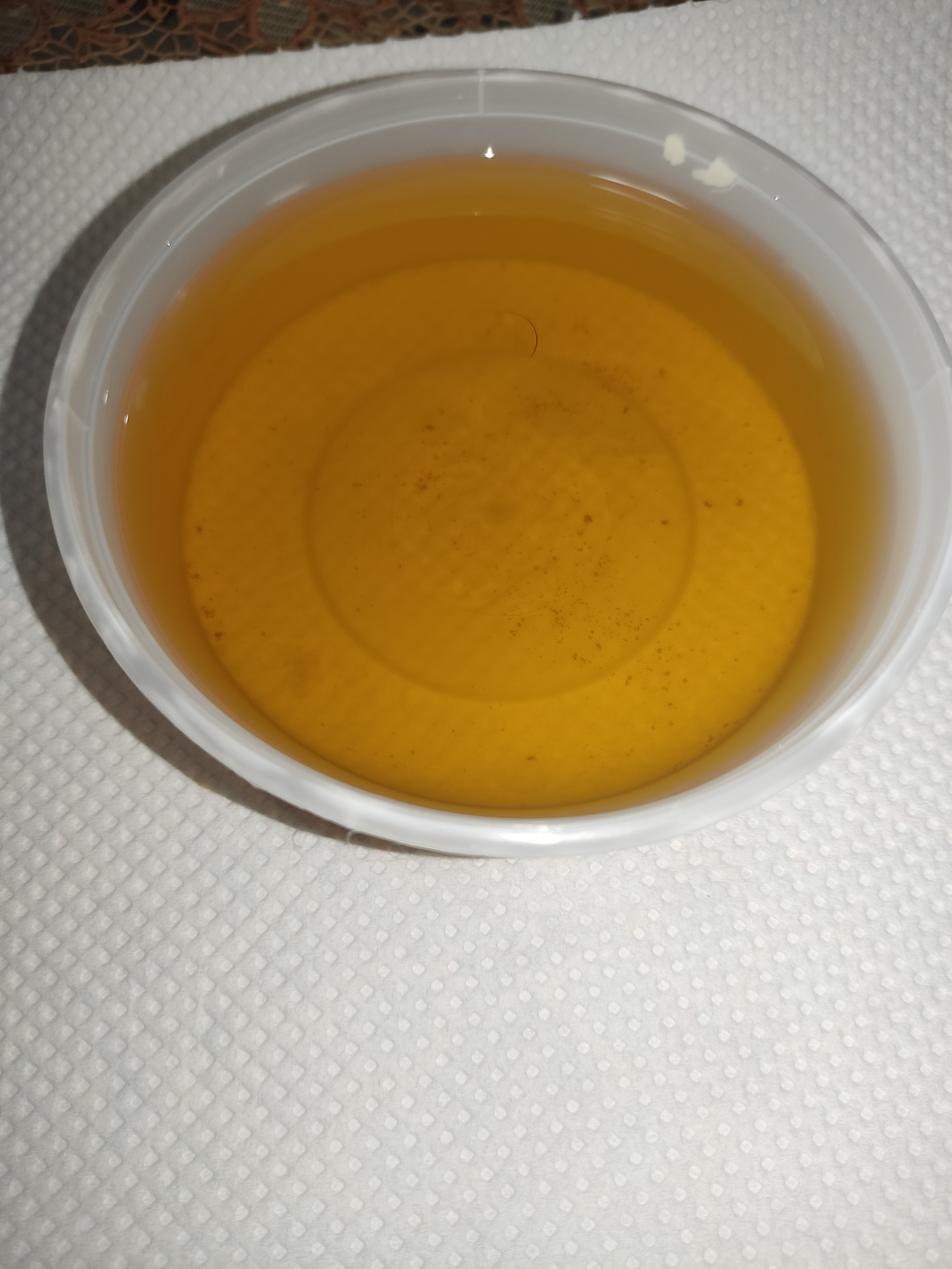reusable: (103, 137, 910, 821)
